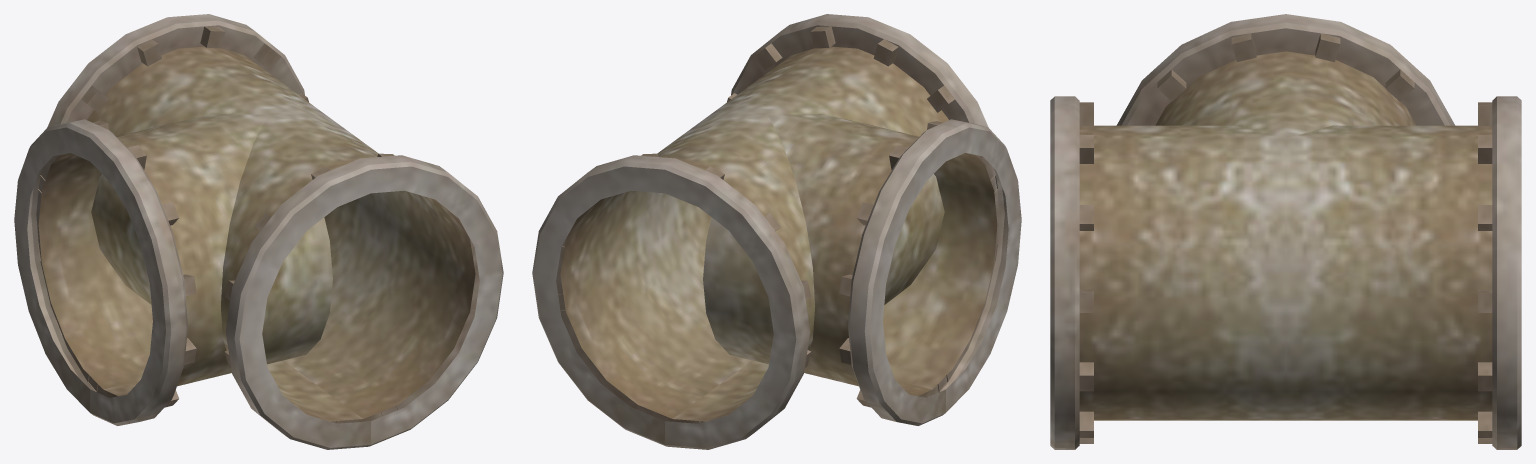
Rendered from pipe-t-left.glb.
3 renders of one model, left to right at view 1: azimuth 30°, elevation 25°; view 2: azimuth 150°, elevation 25°; view 3: azimuth 270°, elevation 25°, orthographic. The views are drawn at different scales.
Parts seen in each view (by area): view 1: body; view 2: body; view 3: body.
Boxes of the visible parts, x1,y1,x2,y2 form: body: (14, 14, 503, 449); body: (532, 14, 1021, 449); body: (1050, 14, 1521, 449).
Bounding box in the file's own units: 0.878 × 0.756 × 1.
1 material, 1 textured.
